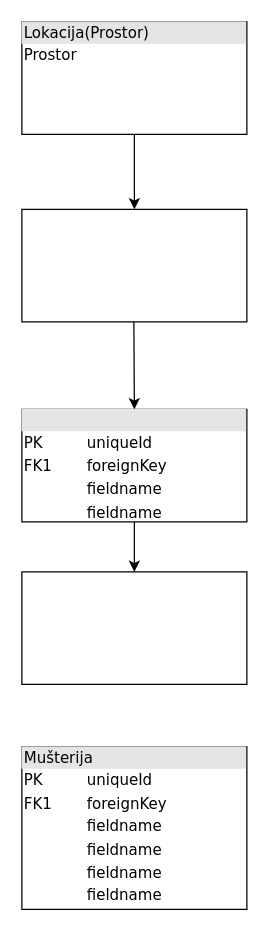
Image size: 269x931. Some labels were removed from this diagram. The box of each missing label's shape, as (x1, y1, x2, y2) in pixels:
Tablename PK uniqueId FK1 foreignKey fieldname fieldname: (21, 571, 247, 684)
Usluga id usluge Naziv usluge: (21, 208, 247, 322)
